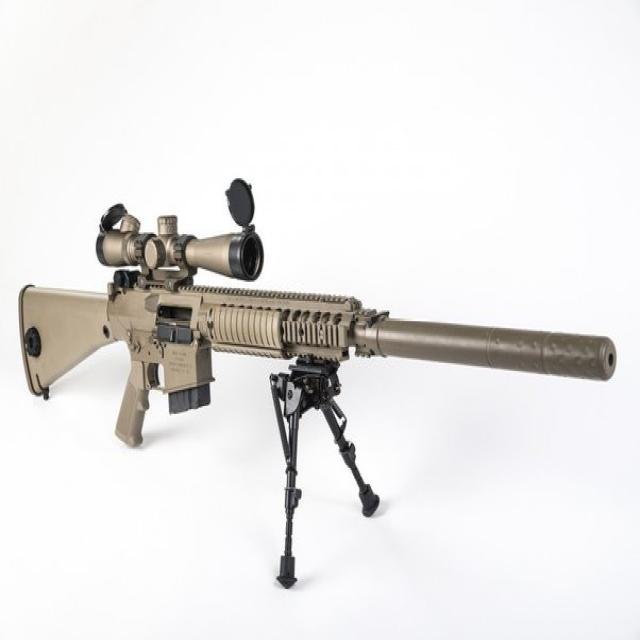Rifle: (20, 181, 619, 449)
